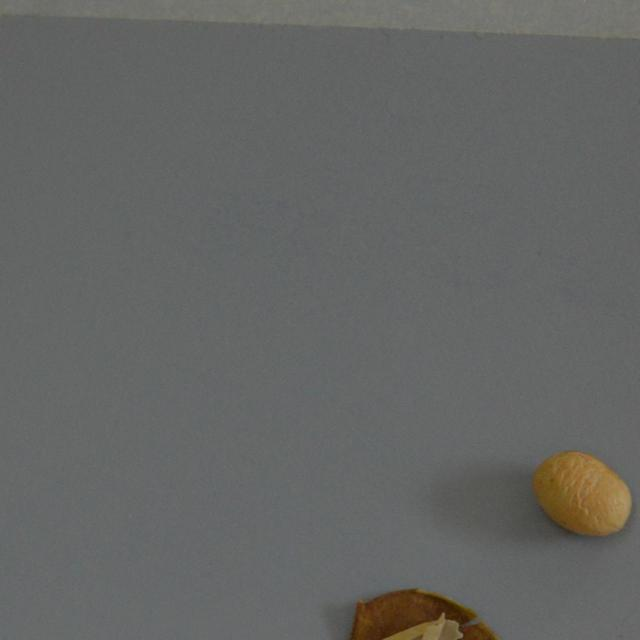cuerpos_extranos: (527, 440, 640, 550), (342, 576, 512, 640)
